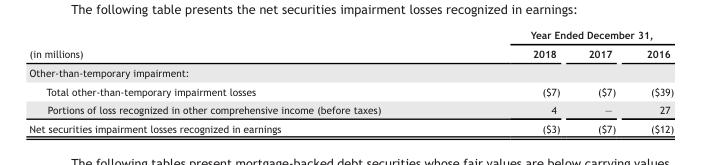table: (28, 28, 673, 134)
table column: (28, 28, 455, 134), (455, 28, 573, 134), (573, 28, 630, 134), (630, 28, 673, 134)
table column header: (28, 28, 673, 63)
table projected row header: (28, 63, 673, 82)
table row: (28, 44, 673, 63), (28, 63, 673, 82), (28, 82, 673, 100), (28, 100, 673, 118), (28, 28, 673, 44), (28, 118, 673, 134)
table spanning cell: (28, 28, 455, 63), (455, 28, 673, 44)
